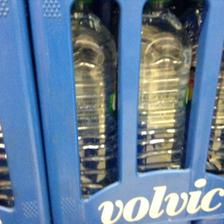Wasser: (137, 0, 191, 168), (67, 0, 115, 188)
